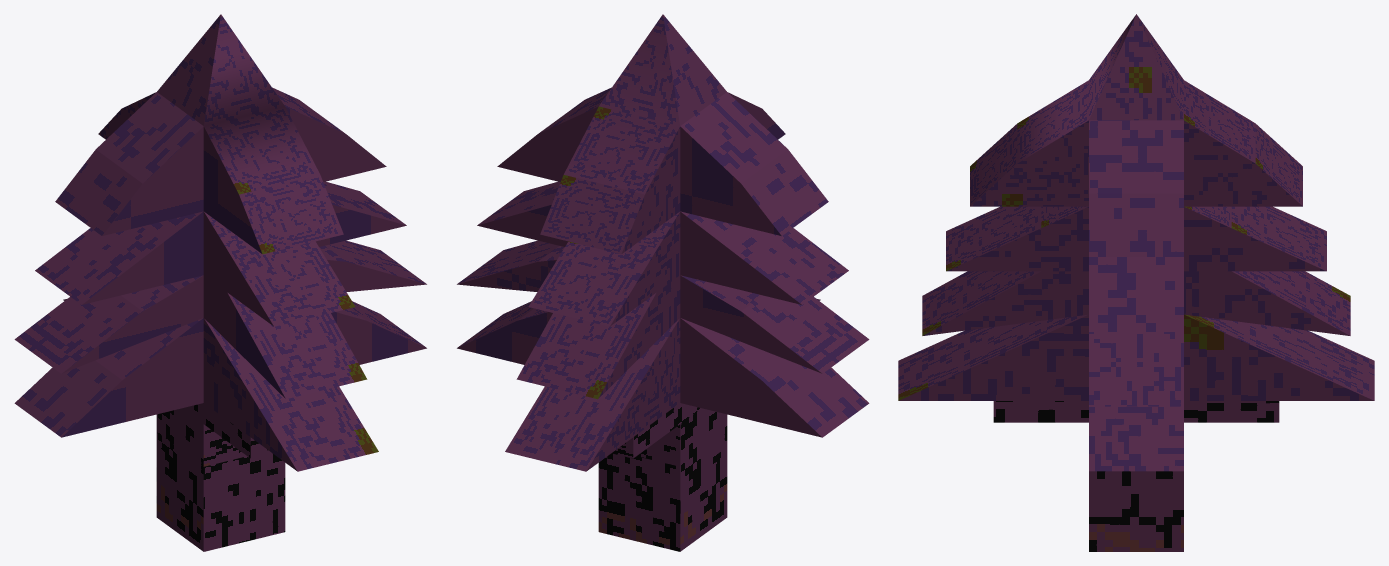
The model's file is tree.fbx.
3 views of the same model, side by side, from view 1: azimuth 30°, elevation 25°; view 2: azimuth 150°, elevation 25°; view 3: azimuth 270°, elevation 25° (orthographic).
Parts seen in each view (by area): view 1: tree:Mesh; view 2: tree:Mesh; view 3: tree:Mesh.
Boxes of the visible parts, left/top/right/bottom form: tree:Mesh: left=14, top=14, right=426, bottom=551; tree:Mesh: left=457, top=14, right=869, bottom=551; tree:Mesh: left=898, top=14, right=1374, bottom=551.
Bounding box in the file's own units: 235 × 313 × 261.
2 materials, 2 textured.
